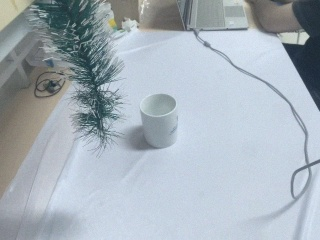cup: (139, 93, 178, 148)
